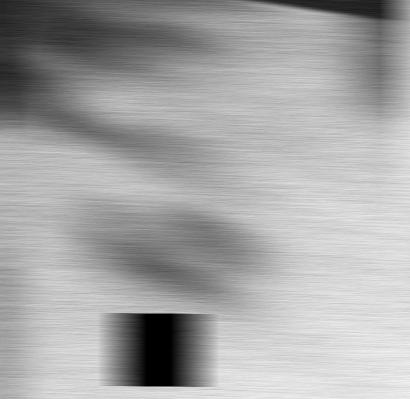Airbag: (0, 1, 410, 399)
